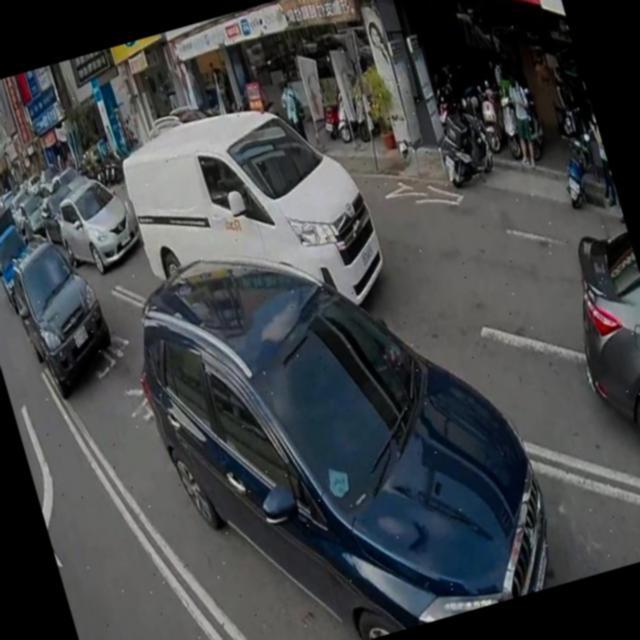person: (497, 72, 546, 170), (582, 114, 620, 209), (545, 58, 581, 133), (280, 74, 313, 144)
